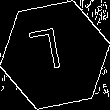L_S: (36, 27, 74, 83)
